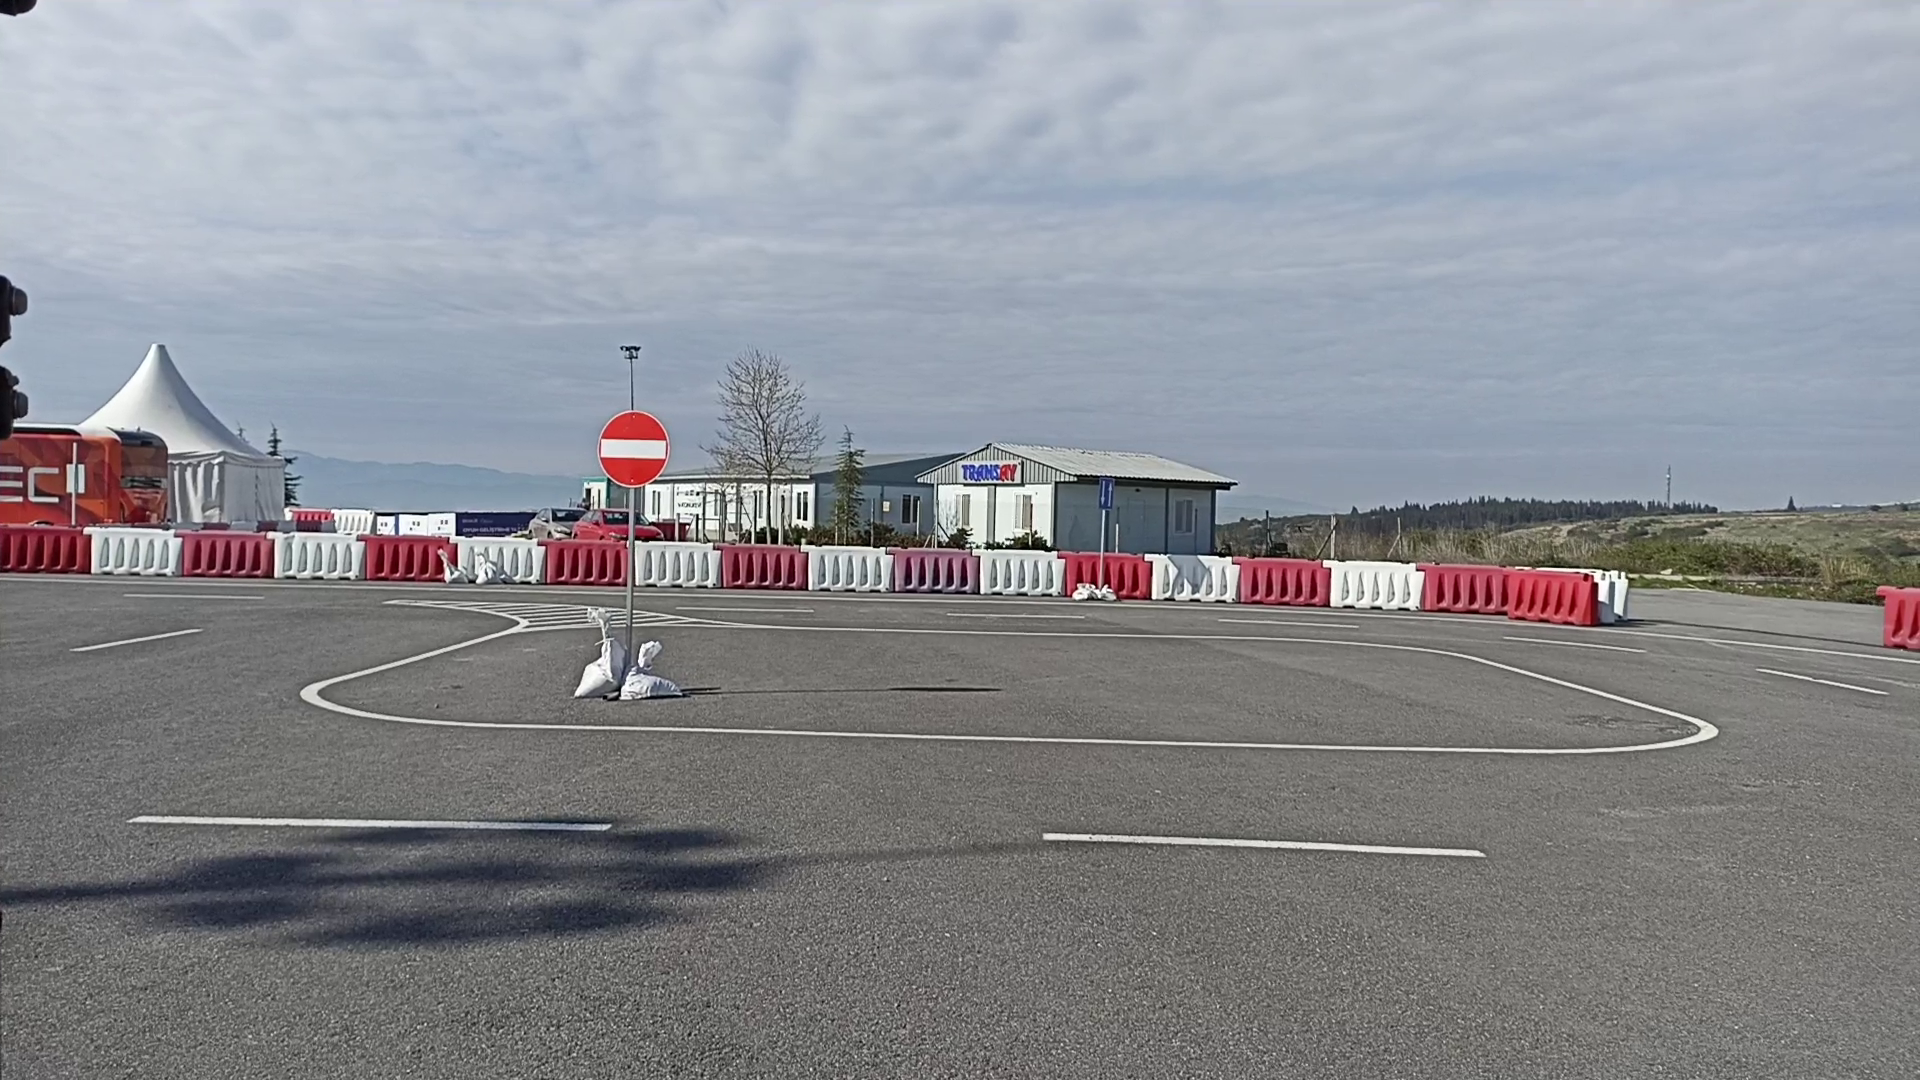noentryway: (595, 409, 673, 491)
